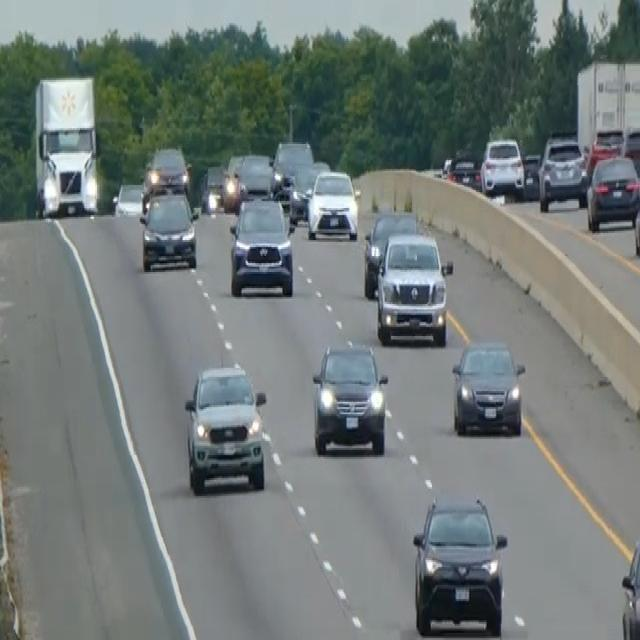car: (411, 490, 508, 634), (311, 338, 389, 457), (375, 229, 453, 345), (450, 336, 525, 437), (227, 194, 294, 297), (138, 185, 199, 272), (362, 206, 417, 297), (585, 151, 639, 231), (537, 134, 587, 212), (306, 167, 359, 240), (140, 144, 190, 210), (479, 135, 524, 197), (270, 137, 313, 197), (234, 151, 274, 205), (619, 535, 639, 638), (288, 162, 318, 224), (199, 162, 227, 213), (446, 150, 481, 188), (221, 151, 244, 208), (111, 179, 144, 217)
jeep: (182, 361, 267, 494)
lorry: (32, 71, 102, 219)
